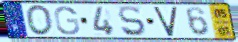4: (92, 5, 116, 37)
6: (184, 6, 210, 37)
G: (53, 6, 81, 36)
O: (24, 4, 55, 37)
S: (117, 5, 148, 38)
V: (152, 6, 178, 38)
